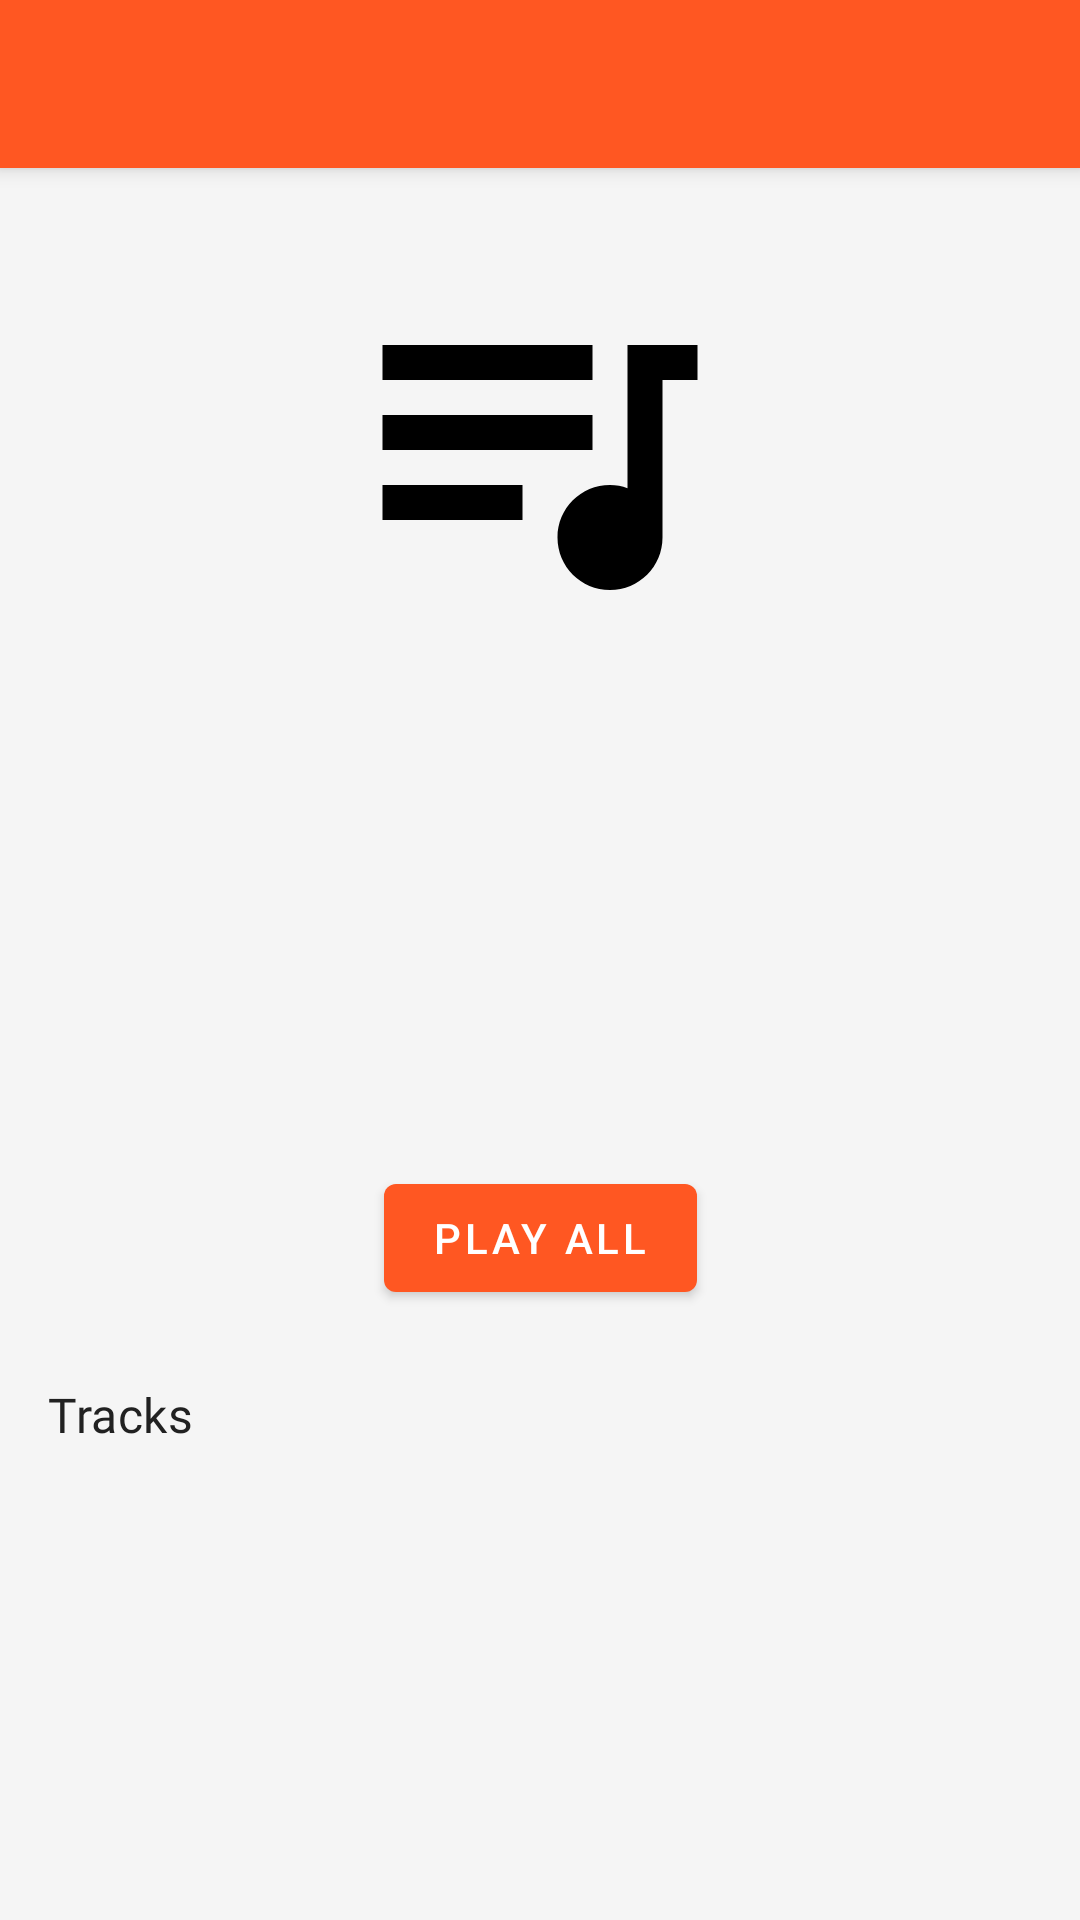

Where to tap for icons on this 1080*1920 app screen, as [x,y]:
Playlist thumbnail: [540,467]
